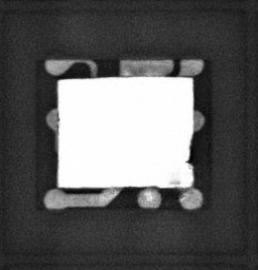DIE_BROKEN: (183, 132, 196, 169)
